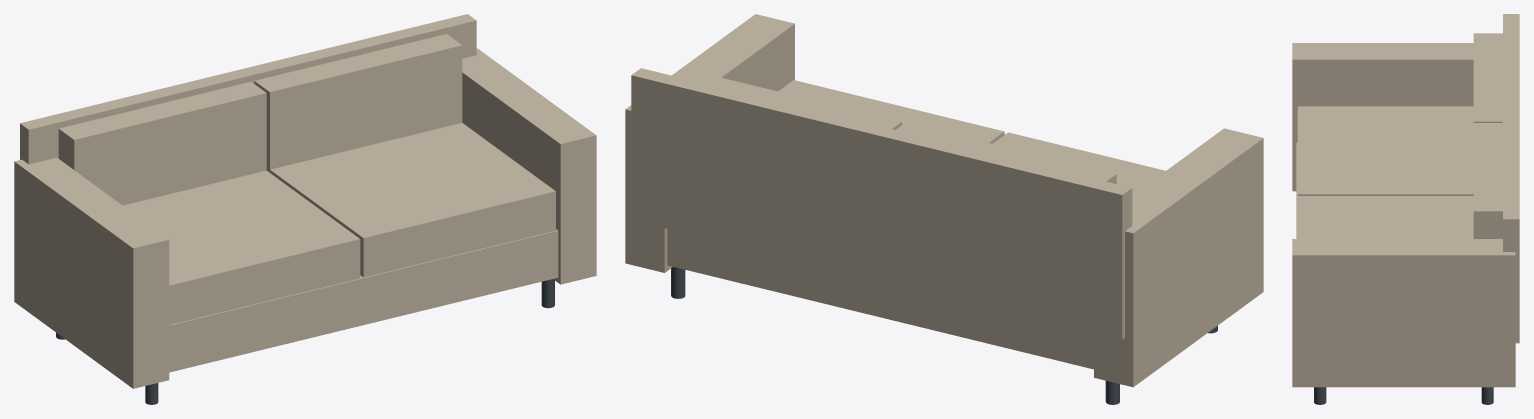
Rendered from sofa-1.glb.
The picture shows the model from 3 angles, left to right: view 1: azimuth 30°, elevation 25°; view 2: azimuth 150°, elevation 25°; view 3: azimuth 270°, elevation 25°; orthographic projection. The views are drawn at different scales.
Visible parts, largest first — view 1: sofa:1:editor; view 2: sofa:1:editor; view 3: sofa:1:editor.
Part boxes in pixels (x1=…): sofa:1:editor: x1=14, y1=14, x2=596, y2=404; sofa:1:editor: x1=625, y1=14, x2=1263, y2=404; sofa:1:editor: x1=1292, y1=14, x2=1519, y2=404.
Bounding box in the file's own units: 1.8 × 0.77 × 0.815.
